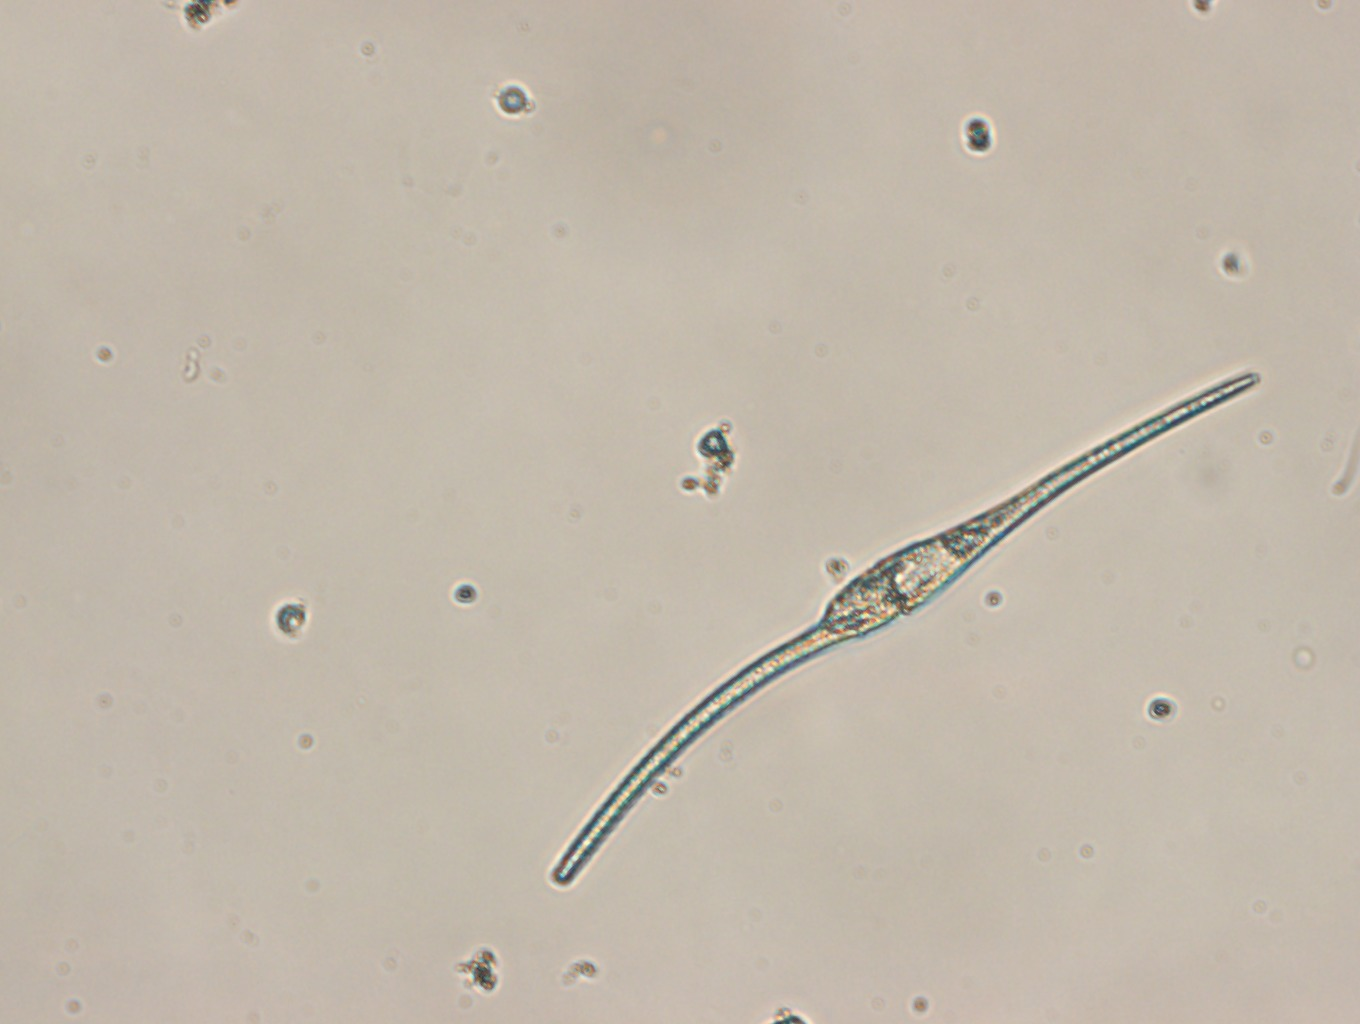ceratium fusus: (547, 367, 1263, 886)
